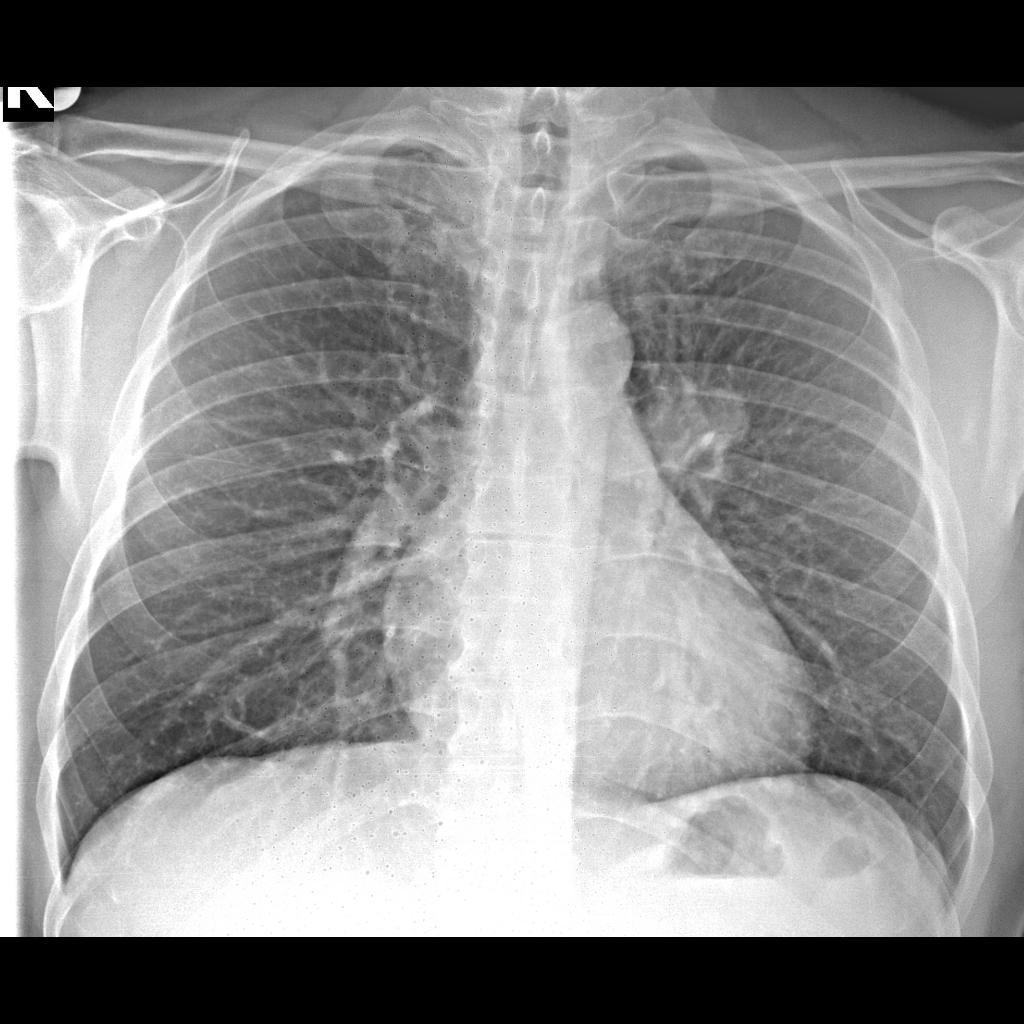Nodule: (687, 381, 759, 439)
